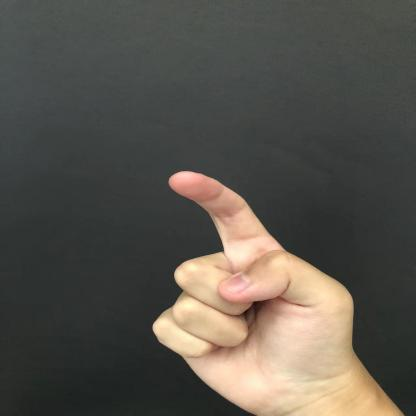finger_point: (104, 154, 334, 252)
